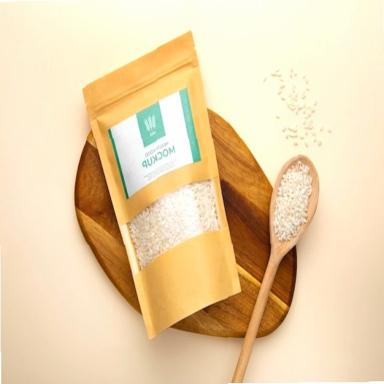rice package: (84, 33, 240, 338)
